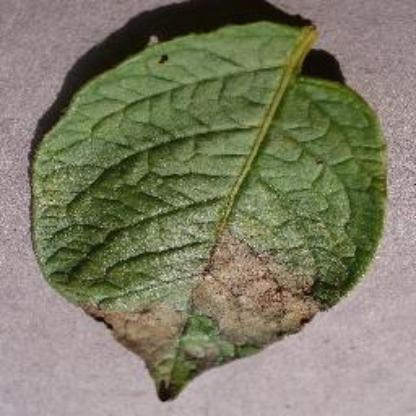Late-Blight: (18, 12, 406, 404)
